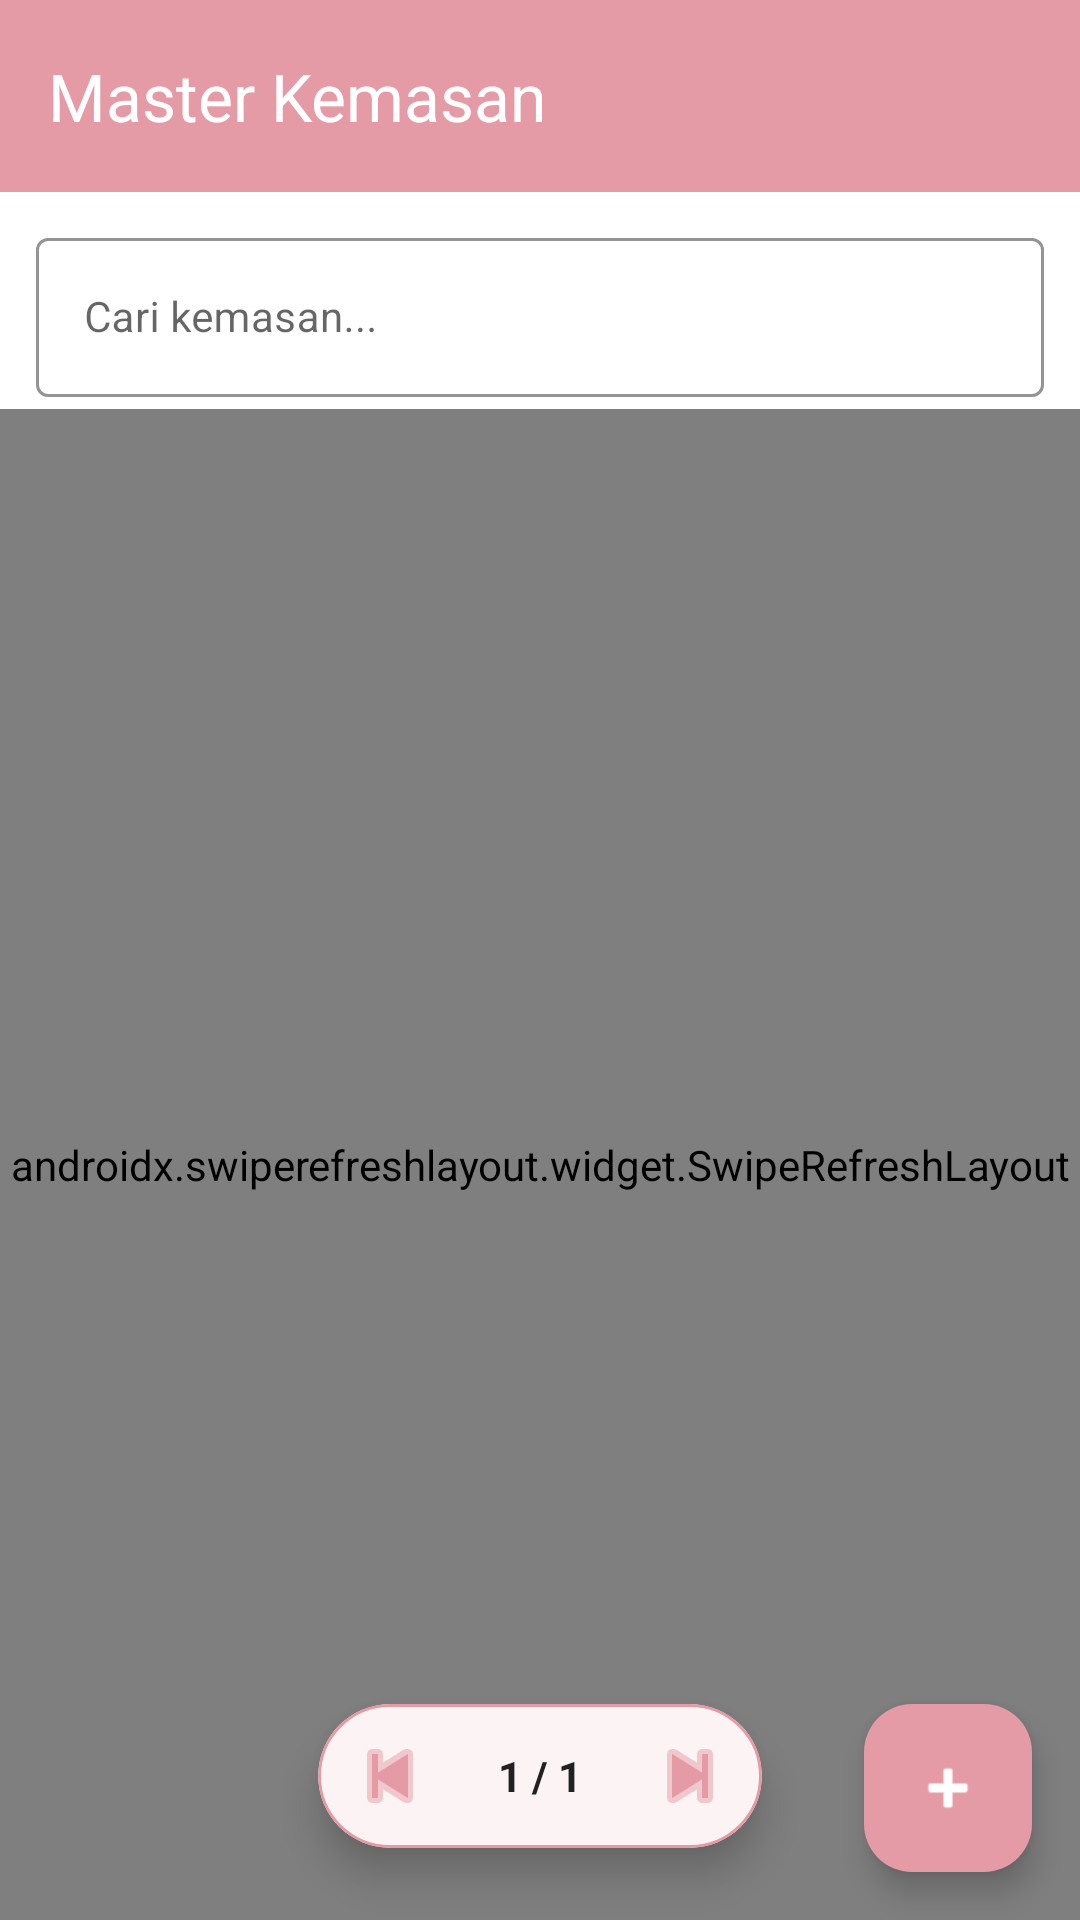

Where icons sit on this 1080px×1920px app screen, as (x1, y1, x2, y2):
next: (667, 1749, 713, 1803)
previous: (367, 1749, 413, 1803)
Tambah Kemasan: (864, 1704, 1032, 1872)
